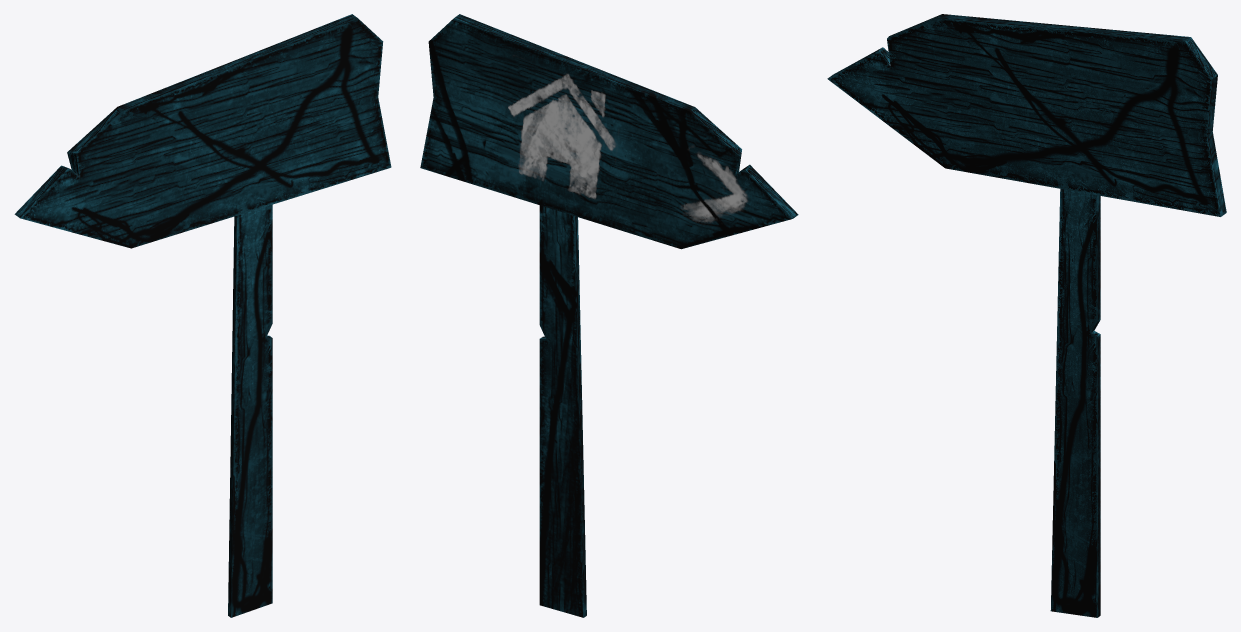
The model's file is mdl_roadsign_02.fbx.
The picture shows the model from 3 angles, left to right: view 1: azimuth 30°, elevation 25°; view 2: azimuth 150°, elevation 25°; view 3: azimuth 330°, elevation 25°; orthographic projection. The views are drawn at different scales.
Parts seen in each view (by area): view 1: Cube.017; view 2: Cube.017; view 3: Cube.017.
Boxes of the visible parts, left/top/right/bottom form: Cube.017: left=14, top=14, right=391, bottom=617; Cube.017: left=420, top=14, right=798, bottom=617; Cube.017: left=827, top=14, right=1226, bottom=617.
Bounding box in the file's own units: 138 × 202 × 3.69.
